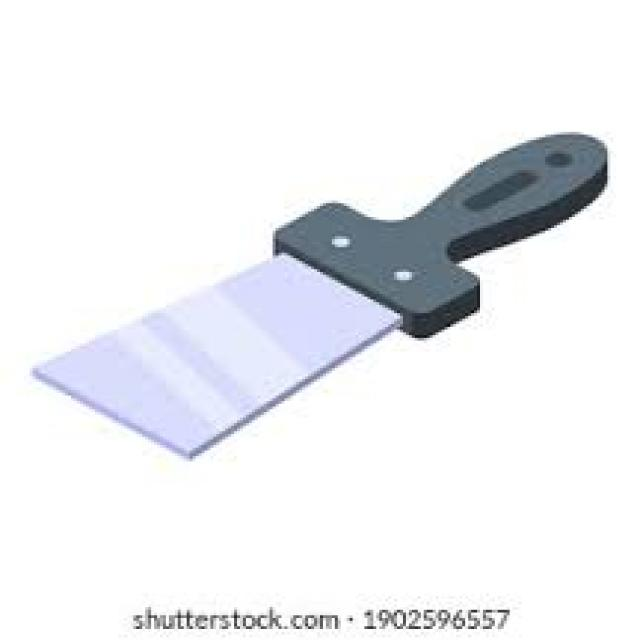weapon: (61, 65, 612, 466)
